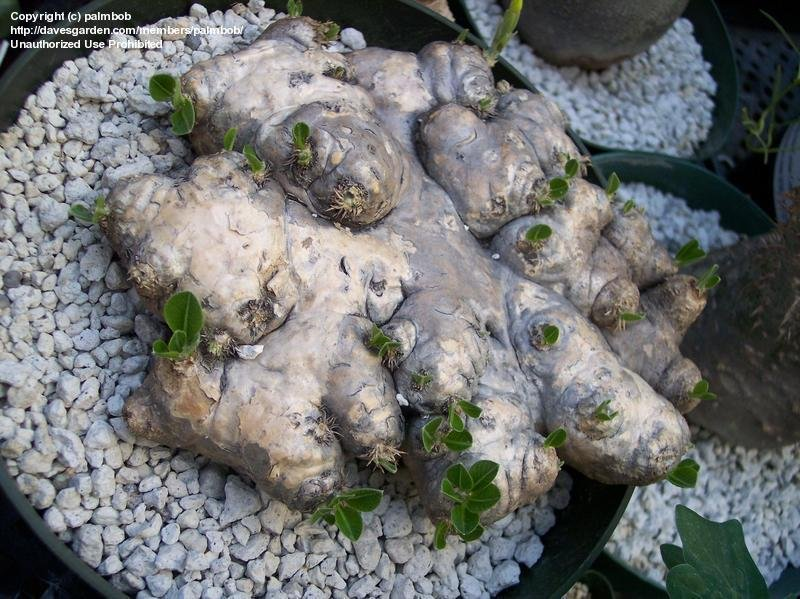Pachypodium brevicaule: (129, 40, 730, 516)
